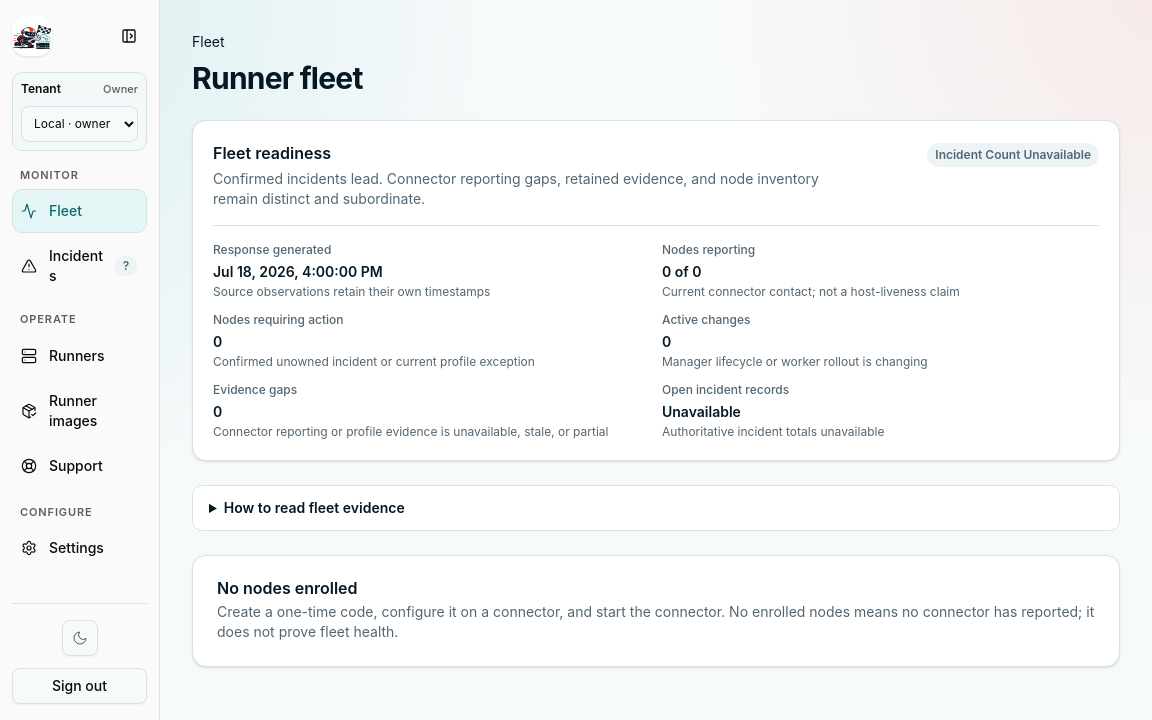
Test case: authenticated routing › groups routes and remembers a compact desktop rail without hiding context
Expected: the list named "Monitor" is shown, left=12, top=189, right=147, bottom=295
Expected: the list named "Operate" is shown, left=12, top=334, right=147, bottom=488
Step 1. Click the button named "Expand primary navigation" → (129, 36), box left=111, top=18, right=147, bottom=54
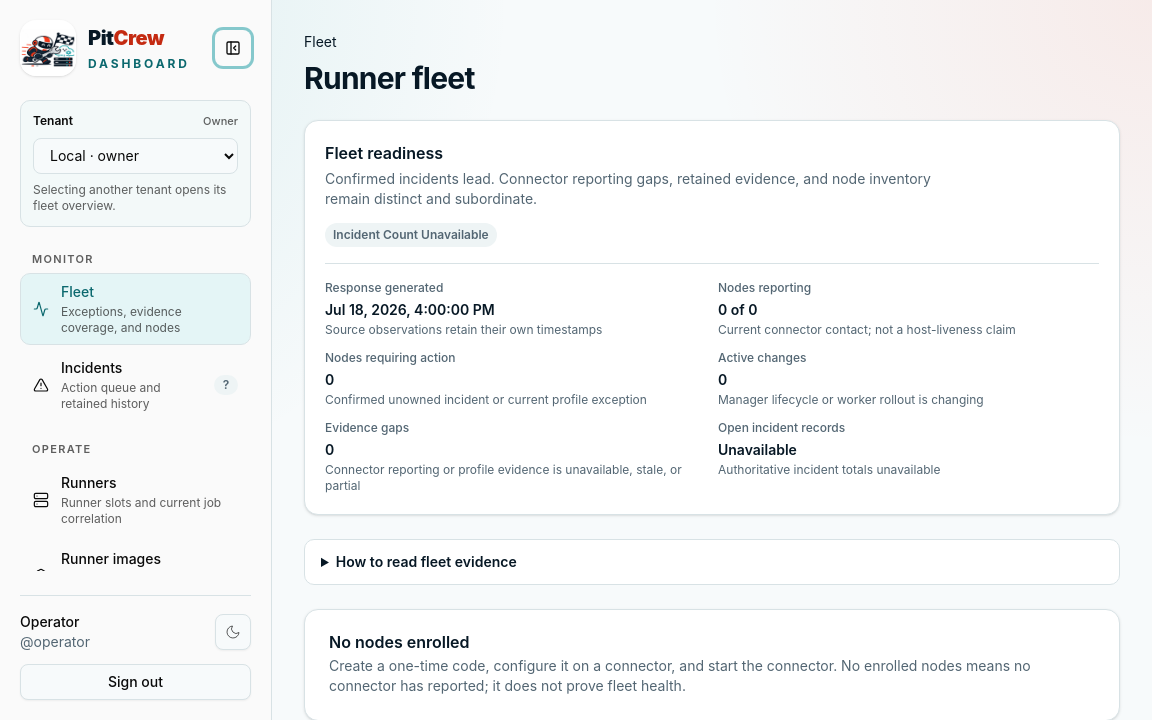
Expected: the button named "Collapse primary navigation" is shown, left=215, top=30, right=251, bottom=66
